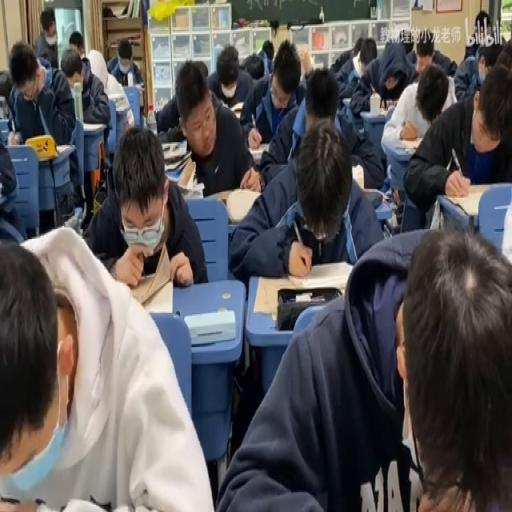calculator: (253, 264, 353, 316), (185, 307, 235, 343), (132, 270, 173, 313), (226, 188, 260, 224), (160, 139, 186, 161), (108, 85, 130, 111), (365, 185, 391, 205), (207, 186, 234, 205), (248, 140, 267, 164), (396, 136, 422, 150), (82, 118, 104, 132), (360, 110, 387, 120), (229, 100, 244, 116), (55, 144, 71, 156), (341, 94, 350, 107), (133, 82, 144, 90)
paper: (4, 224, 213, 510), (396, 222, 511, 512), (227, 112, 381, 289), (404, 60, 510, 224), (160, 60, 256, 196), (61, 46, 112, 216), (452, 24, 502, 97), (0, 121, 26, 243), (330, 33, 375, 101), (406, 27, 456, 78), (302, 65, 339, 128), (106, 36, 144, 86), (34, 9, 60, 68), (154, 91, 180, 134), (240, 52, 266, 80), (298, 44, 314, 77), (68, 30, 85, 61), (0, 71, 13, 111), (497, 37, 512, 70), (396, 28, 414, 54), (474, 8, 490, 36), (193, 58, 209, 78), (261, 40, 274, 61), (352, 37, 364, 58), (80, 56, 90, 81), (463, 43, 476, 61)
person: (141, 253, 158, 276)
